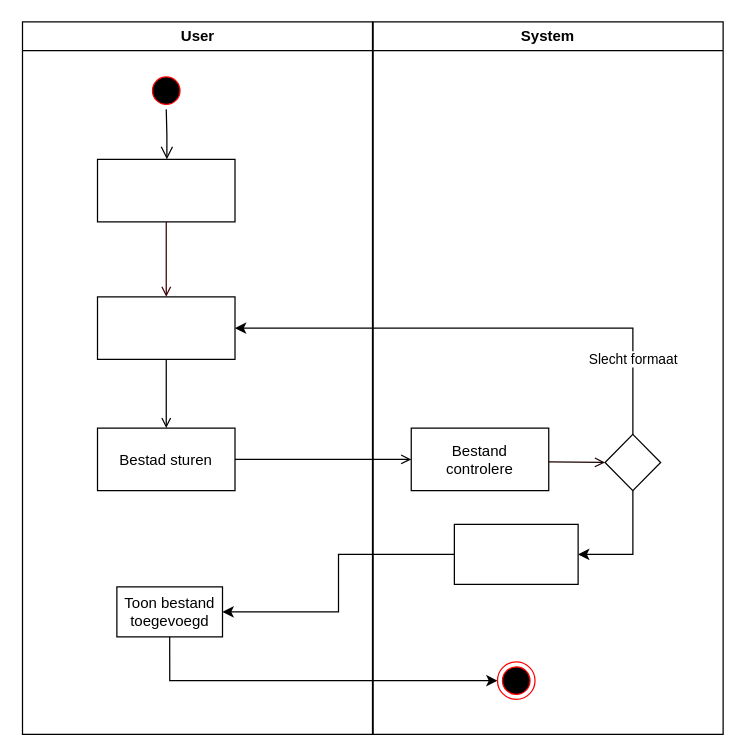
Image size: 745x756. Some labels were removed from this diagram. The centre of each missing label's shape, as x and y in pixels:
"bestand kiezen" goes at point 165,327.
"Bestand toevoegen aan database" goes at point 515,553.
"Gebruiker wilt bulk toevoege" goes at point 165,190.
